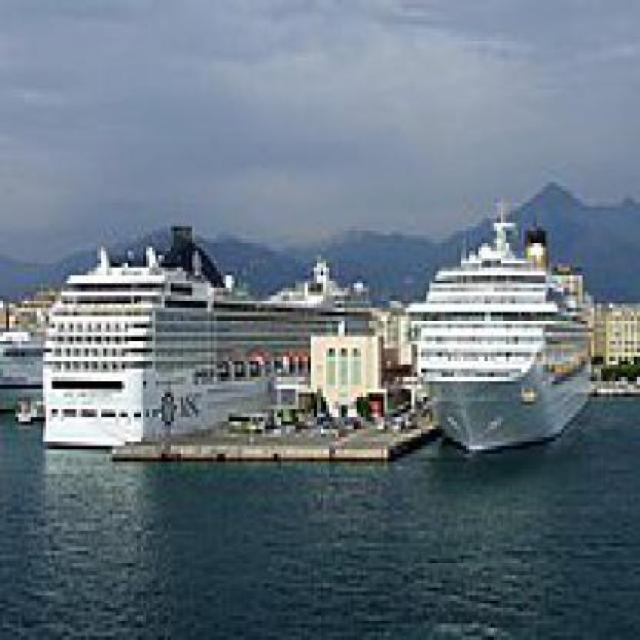cruise: (400, 192, 605, 467), (34, 216, 236, 451)
